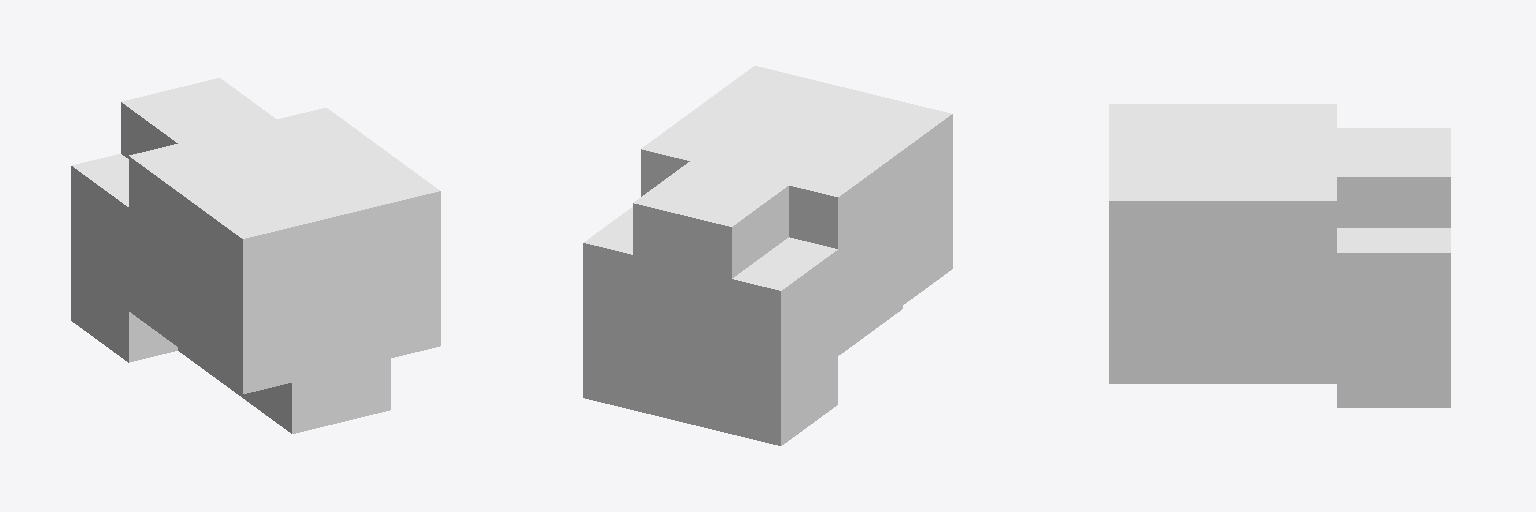
The model's file is TailTop.obj.
The picture shows the model from 3 angles: view 1: azimuth 30°, elevation 25°; view 2: azimuth 150°, elevation 25°; view 3: azimuth 270°, elevation 25°; orthographic projection.
Bounding box in the file's own units: 4 × 4 × 6.